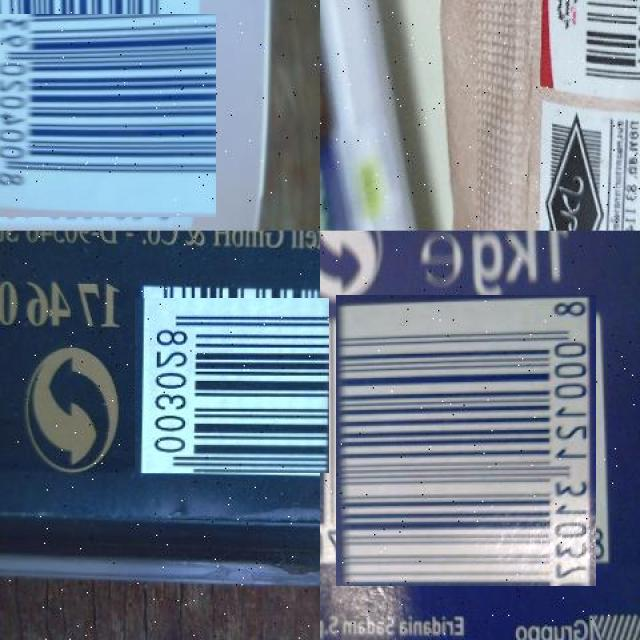Barcode: (328, 302, 604, 578), (0, 8, 210, 224), (140, 293, 325, 478), (583, 0, 640, 104)
